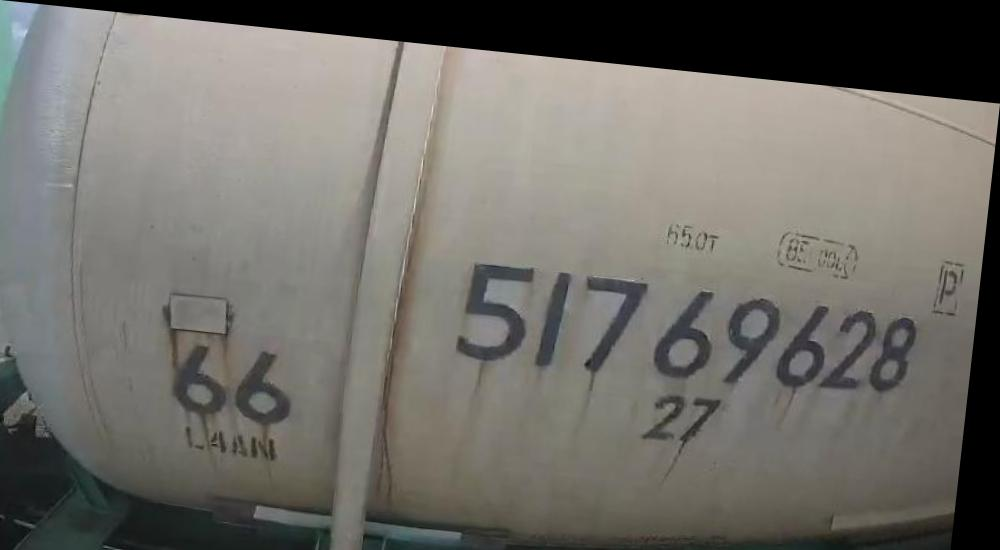Wagon-number: (455, 246, 930, 391)
